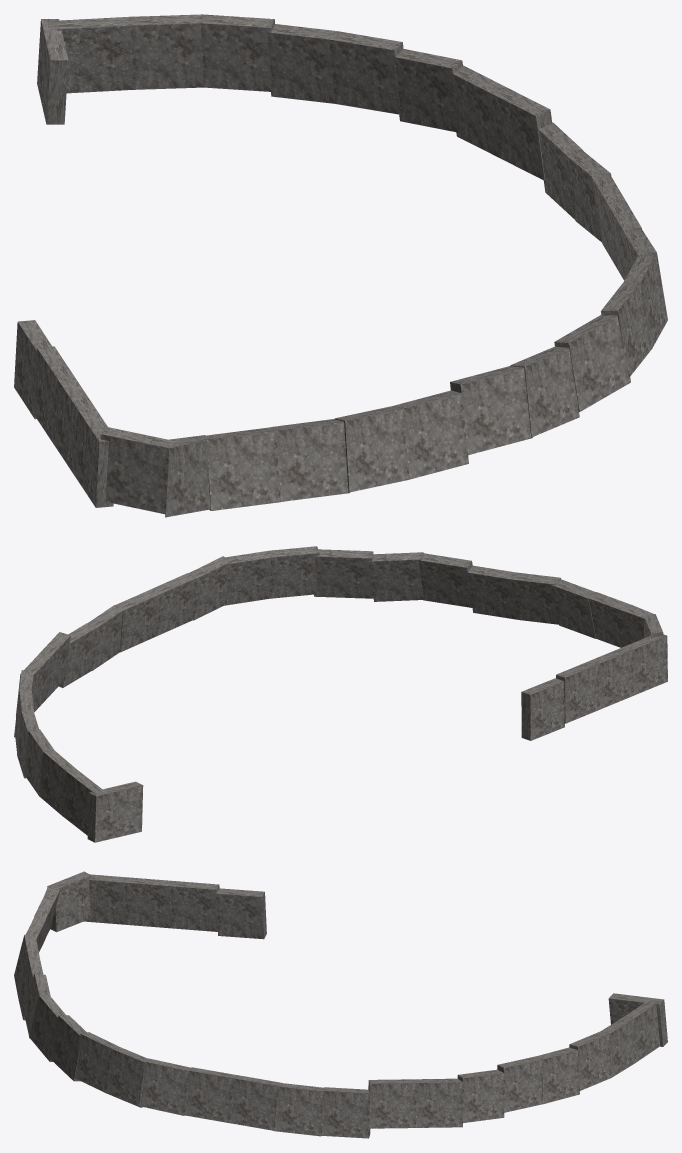
File: 壁横石内.fbx
3 views of the same model, one above another, from view 1: azimuth 30°, elevation 25°; view 2: azimuth 150°, elevation 25°; view 3: azimuth 270°, elevation 25° (orthographic). The views are drawn at different scales.
Parts seen in each view (by area): view 1: 床□_1_fracturepart38_2, 床□_1_fracturepart142_2, 床□_1_fracturepart69, 床□_1_fracturepart208_2, 床□_1_fracturepart71_2, 床□_1_fracturepart213, 床□_1_fracturepart198, 床□_1_fracturepart214, 床□_1_fracturepart97_2, 床□_1_fracturepart74, 床□_1_fracturepart192_2, 床□_1_fracturepart129 (+25 smaller); view 2: 床□_1_fracturepart192_2, 床□_1_fracturepart218_2, 床□_1_fracturepart198, 床□_1_fracturepart38_2, 床□_1_fracturepart221, 床□_1_fracturepart122_2, 床□_1_fracturepart13, 床□_1_fracturepart109, 床□_1_fracturepart200, 床□_1_fracturepart104, 床□_1_fracturepart3, 床□_1_fracturepart129 (+8 smaller); view 3: 床□_1_fracturepart192_2, 床□_1_fracturepart92, 床□_1_fracturepart218_2, 床□_1_fracturepart3, 床□_1_fracturepart222_2, 床□_1_fracturepart43_2, 床□_1_fracturepart198, 床□_1_fracturepart109, 床□_1_fracturepart230, 床□_1_fracturepart37_2, 床□_1_fracturepart30, 床□_1_fracturepart142_2 (+10 smaller).
Part boxes in pixels (x1,y1,x2,y2): 床□_1_fracturepart38_2: (206,429,254,476); 床□_1_fracturepart142_2: (272,64,327,102); 床□_1_fracturepart69: (168,436,208,475); 床□_1_fracturepart208_2: (267,24,310,65); 床□_1_fracturepart71_2: (240,430,277,477); 床□_1_fracturepart213: (116,458,159,494); 床□_1_fracturepart198: (570,155,598,221); 床□_1_fracturepart214: (241,36,272,87); 床□_1_fracturepart97_2: (484,367,523,404); 床□_1_fracturepart74: (282,424,313,466); 床□_1_fracturepart192_2: (59,409,80,471); 床□_1_fracturepart129: (579,319,606,375); 床□_1_fracturepart192_2: (605,649,633,705); 床□_1_fracturepart218_2: (521,707,564,740); 床□_1_fracturepart198: (92,612,117,658); 床□_1_fracturepart38_2: (597,596,630,631); 床□_1_fracturepart221: (113,781,143,823); 床□_1_fracturepart122_2: (536,678,564,707); 床□_1_fracturepart13: (88,808,109,842); 床□_1_fracturepart109: (127,614,147,647); 床□_1_fracturepart200: (119,591,156,614); 床□_1_fracturepart104: (394,552,418,581); 床□_1_fracturepart3: (557,665,588,697); 床□_1_fracturepart129: (327,549,359,576); 床□_1_fracturepart192_2: (125,877,162,927); 床□_1_fracturepart92: (276,1083,301,1126); 床□_1_fracturepart218_2: (217,919,266,939); 床□_1_fracturepart3: (186,882,217,914); 床□_1_fracturepart222_2: (124,877,162,907); 床□_1_fracturepart43_2: (217,894,253,919); 床□_1_fracturepart198: (290,1084,317,1125); 床□_1_fracturepart109: (247,1091,269,1128); 床□_1_fracturepart230: (101,890,126,924); 床□_1_fracturepart37_2: (171,904,212,931); 床□_1_fracturepart30: (323,1087,358,1111); 床□_1_fracturepart142_2: (549,1072,579,1102).
Bounding box in the file's own units: 221 × 25.92 × 282.
Materials: 1 (1 with a texture image).
